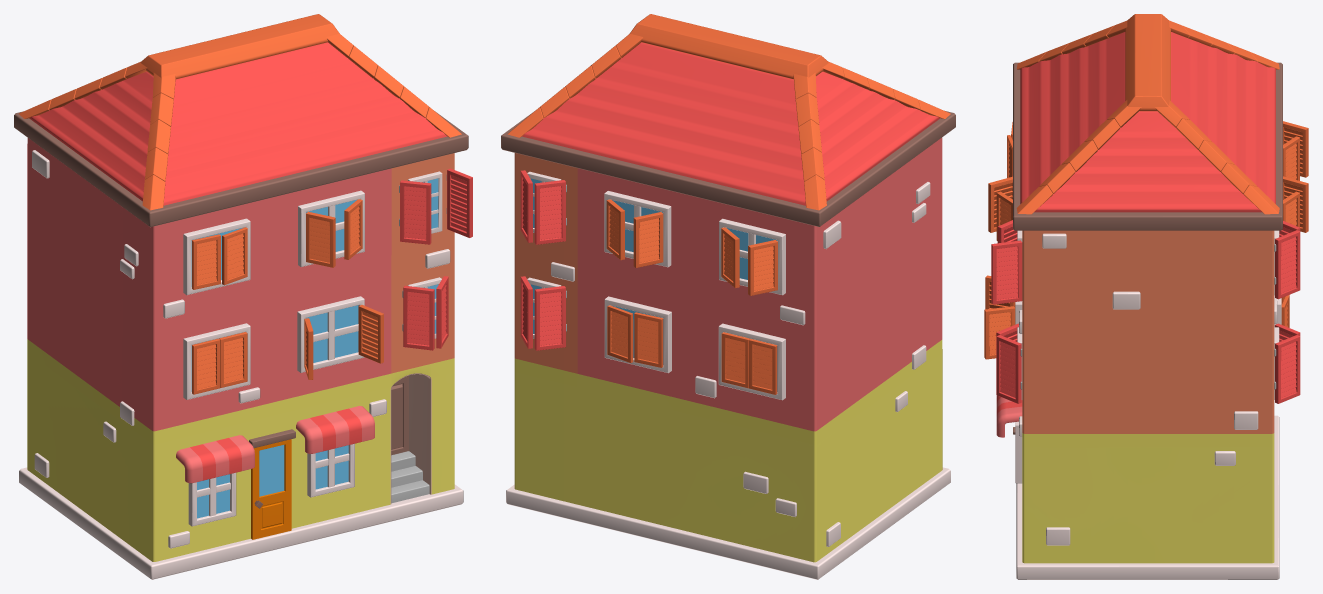
The model's file is City_6_House_1.glb.
3 renders of one model, left to right at view 1: azimuth 30°, elevation 25°; view 2: azimuth 150°, elevation 25°; view 3: azimuth 270°, elevation 25°, orthographic.
Parts seen in each view (by area): view 1: City_6_House_1; view 2: City_6_House_1; view 3: City_6_House_1.
Part boxes in pixels (left/top/right/bottom): City_6_House_1: left=14, top=14, right=472, bottom=579; City_6_House_1: left=501, top=14, right=955, bottom=579; City_6_House_1: left=984, top=14, right=1308, bottom=579.
Bounding box in the file's own units: 9.32 × 12.67 × 8.27.
1 material, 1 textured.
